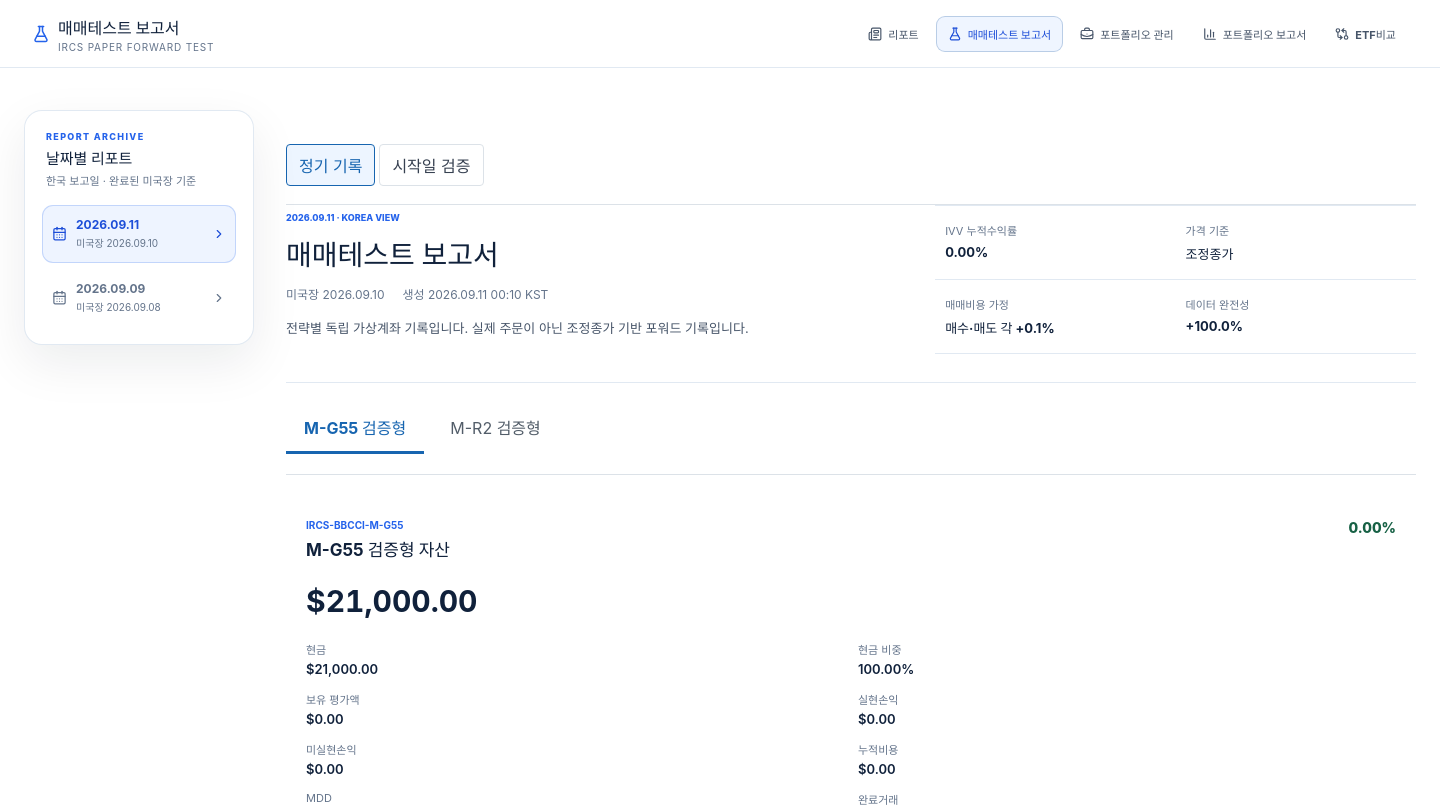
Test: trading report presentation › does not show the previous date's report while loading or after an archive failure
Expected: the heading "매매테스트 보고서" is shown, [286,238,499,272]
Click the button "2026.09.09 미국장 2026.09.08" at (139, 298), box [42,268,236,326]
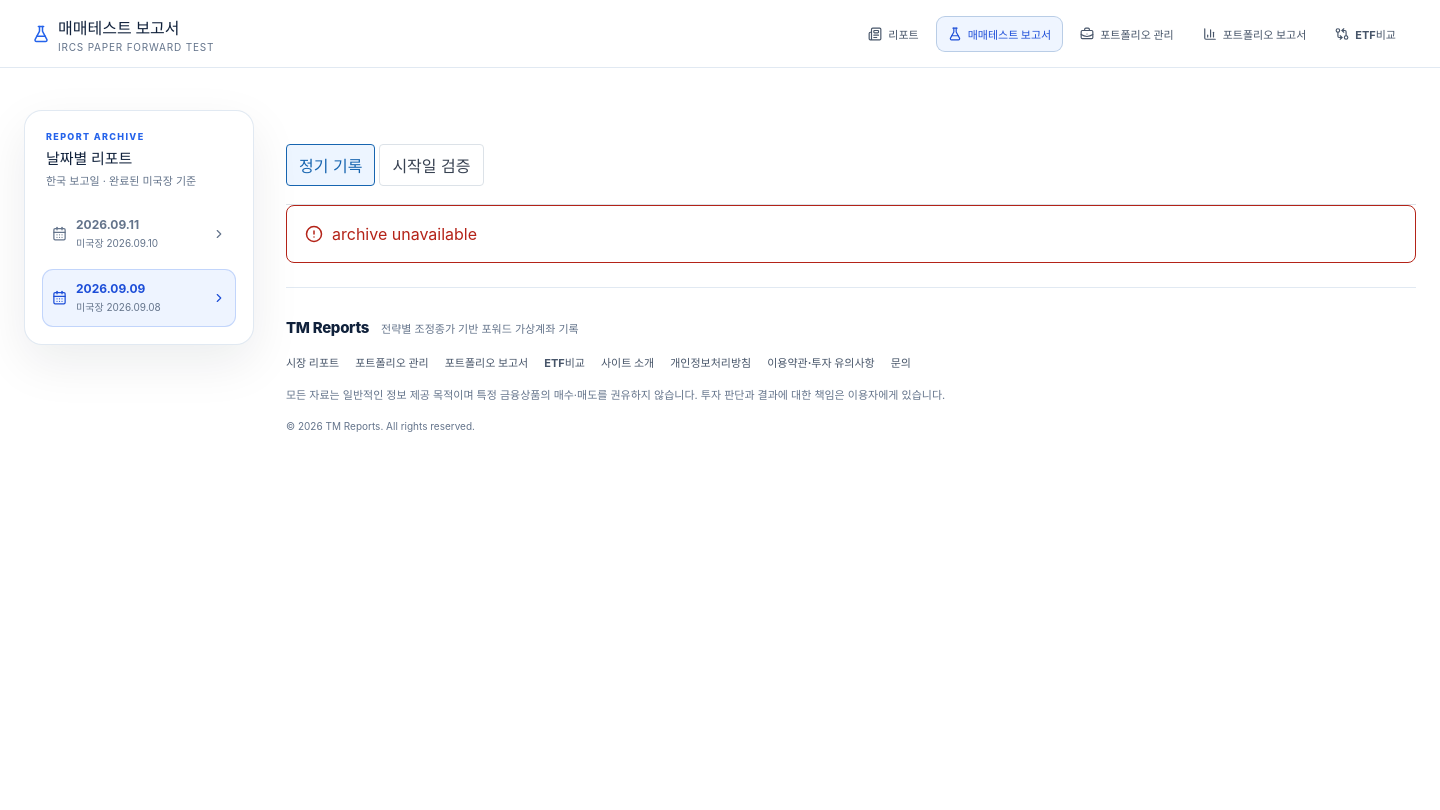
Result: the message reads "archive unavailable" at [332,224,477,244]
Result: the text "2026.09.11 · KOREA VIEW" is gone
